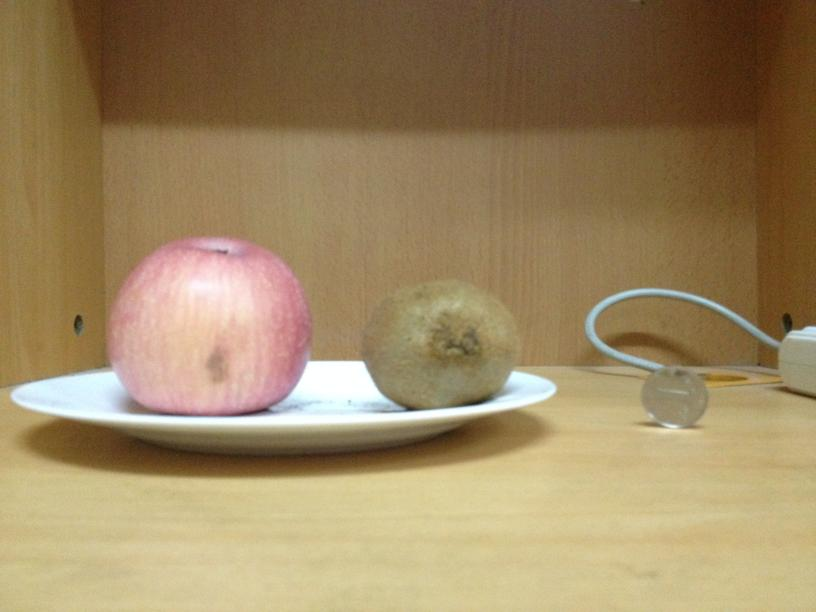apple: (109, 233, 310, 414)
coin: (642, 364, 708, 430)
qiwi: (364, 278, 517, 405)
